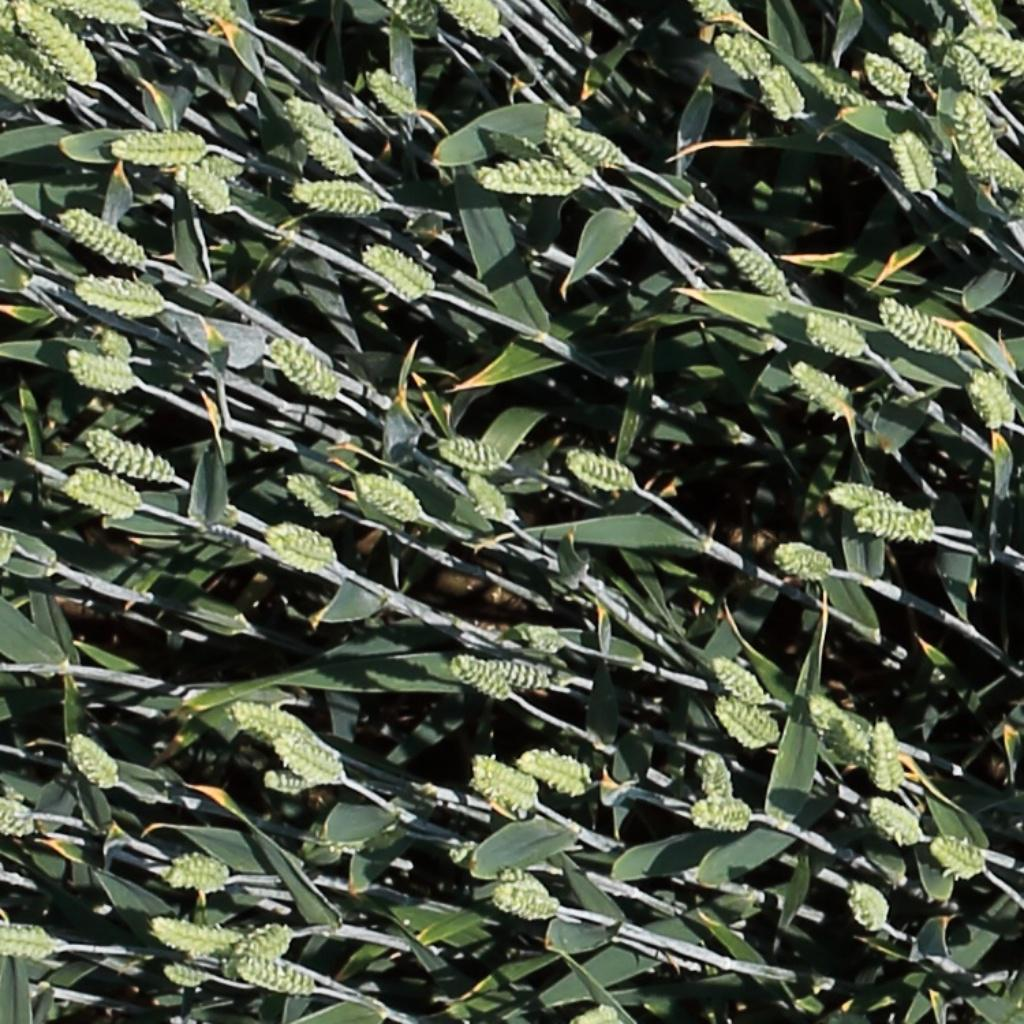0-0: (15, 0, 99, 87), (955, 86, 1018, 189), (264, 515, 346, 580), (61, 466, 147, 527), (463, 158, 594, 198), (143, 910, 229, 970), (58, 206, 146, 264), (289, 172, 390, 222), (879, 296, 961, 356), (108, 123, 212, 169), (267, 334, 339, 400), (86, 430, 174, 481), (554, 118, 633, 173), (64, 350, 145, 403), (153, 852, 234, 905), (475, 753, 540, 818), (221, 921, 295, 978), (812, 694, 876, 759), (545, 107, 600, 182), (711, 691, 780, 749), (516, 742, 592, 794), (805, 61, 881, 113), (494, 862, 564, 918), (885, 27, 947, 90), (75, 278, 175, 317), (0, 55, 73, 108), (296, 118, 361, 177), (959, 26, 1024, 84), (892, 121, 942, 196), (363, 245, 436, 296), (965, 363, 1017, 434), (230, 705, 319, 746), (479, 124, 558, 170), (65, 731, 121, 793), (806, 312, 874, 363), (461, 466, 517, 527), (354, 472, 423, 521), (729, 243, 791, 297), (274, 737, 346, 783), (685, 792, 758, 837), (791, 363, 856, 413), (948, 35, 998, 99), (712, 655, 772, 708), (230, 958, 318, 993), (438, 0, 509, 43), (566, 450, 640, 491), (176, 162, 235, 213), (761, 61, 808, 124), (715, 31, 771, 83), (450, 658, 514, 703), (854, 512, 937, 546), (875, 714, 907, 800), (367, 66, 420, 117), (846, 879, 894, 935), (0, 922, 62, 965), (285, 472, 341, 518), (869, 800, 925, 845), (500, 622, 577, 653), (438, 436, 506, 471), (700, 746, 735, 812), (479, 660, 558, 689), (85, 326, 137, 369), (831, 484, 905, 513), (931, 839, 988, 876), (387, 0, 442, 38), (866, 53, 914, 95), (285, 94, 338, 132), (194, 151, 264, 179), (952, 0, 1003, 36), (65, 0, 144, 21), (776, 550, 836, 577), (0, 0, 23, 68), (262, 771, 322, 794), (181, 0, 238, 24), (0, 801, 36, 836), (695, 0, 745, 25), (161, 963, 215, 985), (0, 528, 22, 570), (577, 1004, 621, 1024), (0, 155, 15, 204)
